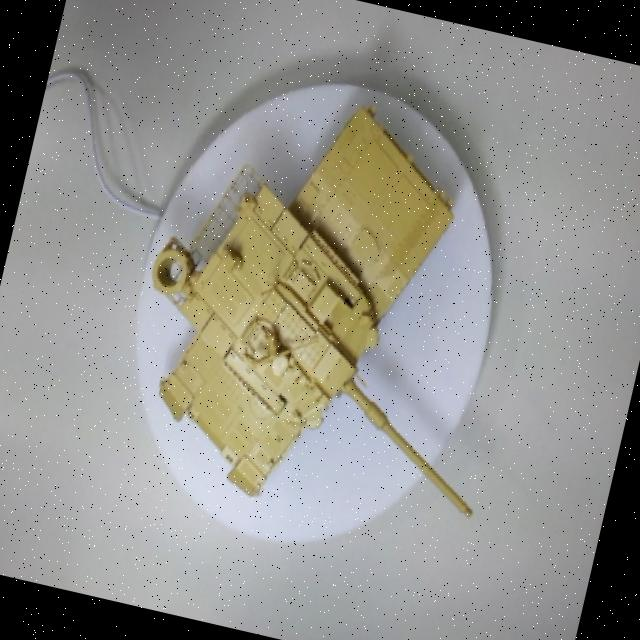korea tank: (88, 47, 582, 578)
